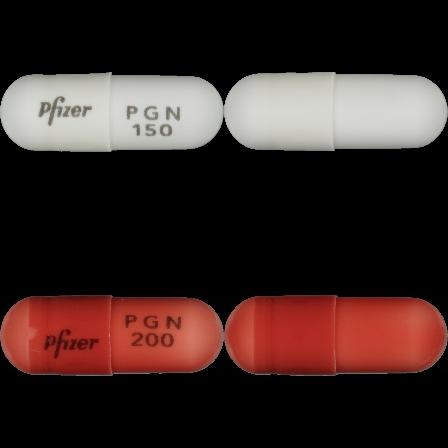50436-6527: (0, 0, 224, 224)
